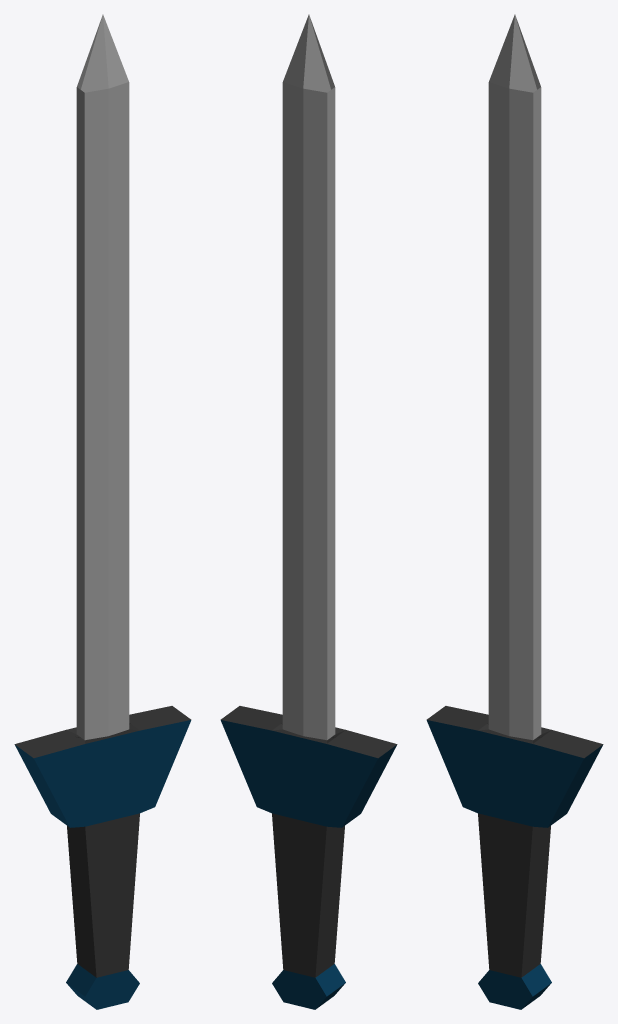
Rendered from sword.fbx.
The picture shows the model from 3 angles, left to right: view 1: azimuth 30°, elevation 25°; view 2: azimuth 150°, elevation 25°; view 3: azimuth 330°, elevation 25°; orthographic projection.
Visible parts, largest first — view 1: GripScale; view 2: GripScale; view 3: GripScale.
Part boxes in pixels (left/top/right/bottom): GripScale: left=14, top=14, right=191, bottom=1009; GripScale: left=220, top=14, right=397, bottom=1009; GripScale: left=426, top=14, right=603, bottom=1009.
Bounding box in the file's own units: 15.79 × 94.15 × 3.34.
